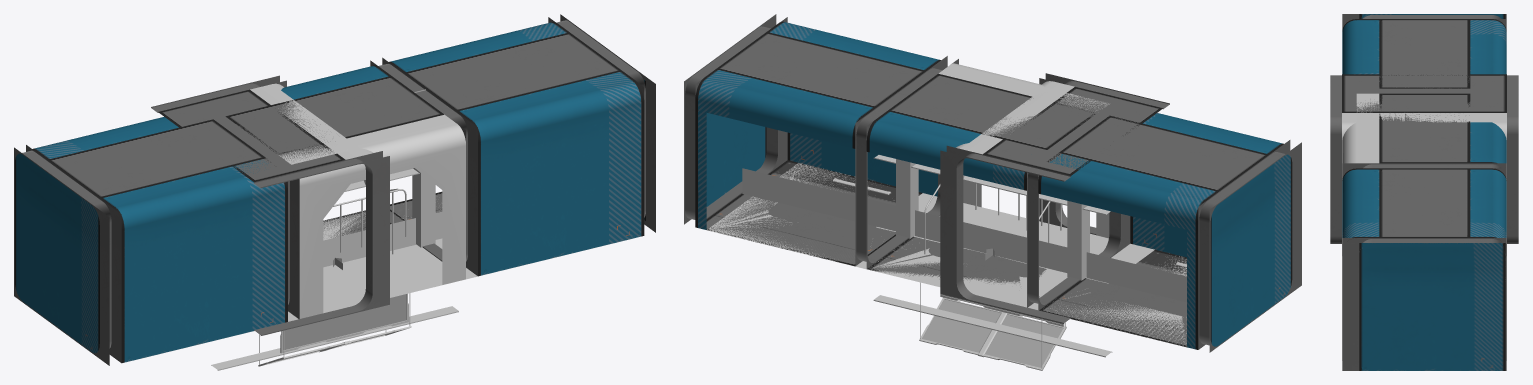
3 views of the same model, side by side, from view 1: azimuth 30°, elevation 25°; view 2: azimuth 150°, elevation 25°; view 3: azimuth 270°, elevation 25° (orthographic). The views are drawn at different scales.
Parts seen in each view (by area): view 1: Corridor_Inner_01, Door_Wall_01, Column_03, Ceiling_01, pCylinder21, Corridor_Inner_02, Metal_Bar, Column_01, Floor_01; view 2: Corridor_Inner_01, Corridor_Inner_02, Floor_01, Door_Wall_01, Column_03, pCylinder21, Column_01, Ceiling_01, Metal_Bar; view 3: Corridor_Inner_01, Door_Wall_01, Column_03.
Boxes of the visible parts, left/top/right/bottom form: Corridor_Inner_01: left=14, top=14, right=655, bottom=365; Door_Wall_01: left=158, top=83, right=373, bottom=185; Column_03: left=151, top=75, right=389, bottom=335; Ceiling_01: left=288, top=238, right=499, bottom=321; pCylinder21: left=258, top=293, right=411, bottom=366; Corridor_Inner_02: left=323, top=211, right=442, bottom=267; Metal_Bar: left=211, top=168, right=458, bottom=370; Column_01: left=412, top=89, right=435, bottom=247; Floor_01: left=133, top=191, right=632, bottom=360; Corridor_Inner_01: left=684, top=14, right=1301, bottom=352; Corridor_Inner_02: left=742, top=168, right=1186, bottom=302; Floor_01: left=707, top=163, right=1186, bottom=347; Door_Wall_01: left=956, top=81, right=1162, bottom=230; Column_03: left=940, top=73, right=1169, bottom=323; pCylinder21: left=919, top=282, right=1066, bottom=370; Column_01: left=896, top=92, right=1089, bottom=280; Ceiling_01: left=876, top=193, right=1154, bottom=283; Metal_Bar: left=873, top=155, right=1112, bottom=357; Corridor_Inner_01: left=1342, top=14, right=1506, bottom=370; Door_Wall_01: left=1342, top=74, right=1506, bottom=255; Column_03: left=1330, top=75, right=1518, bottom=243.
Bounding box in the file's own units: 11.51 × 4.94 × 4.
